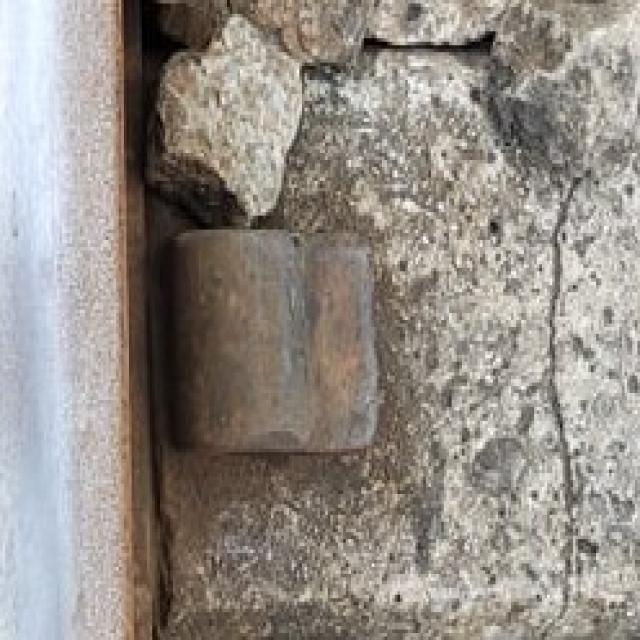track_bolt_missing: (167, 220, 319, 463)
